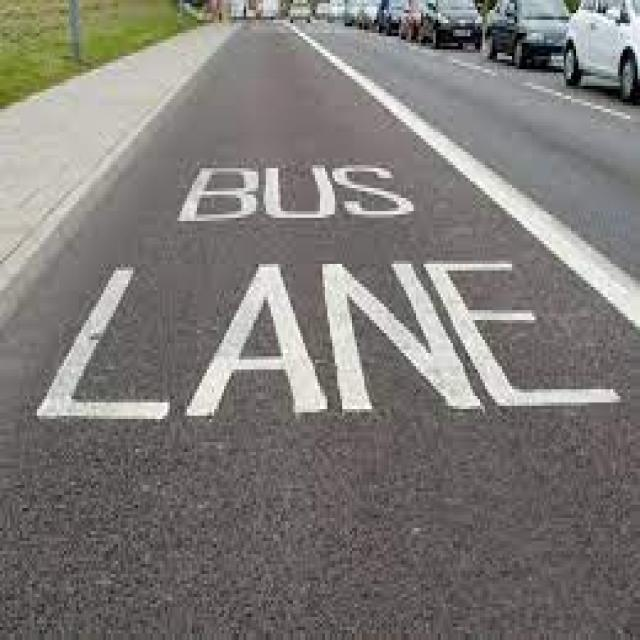BUS LANE: (27, 152, 632, 443)
